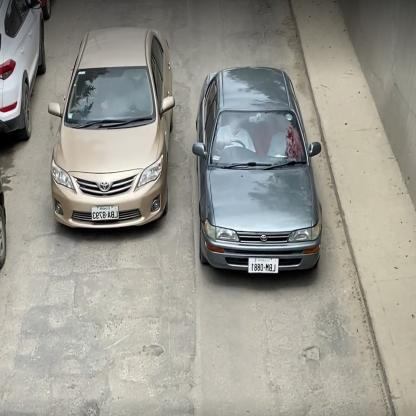Placa: (248, 258, 278, 274), (90, 206, 118, 222)
